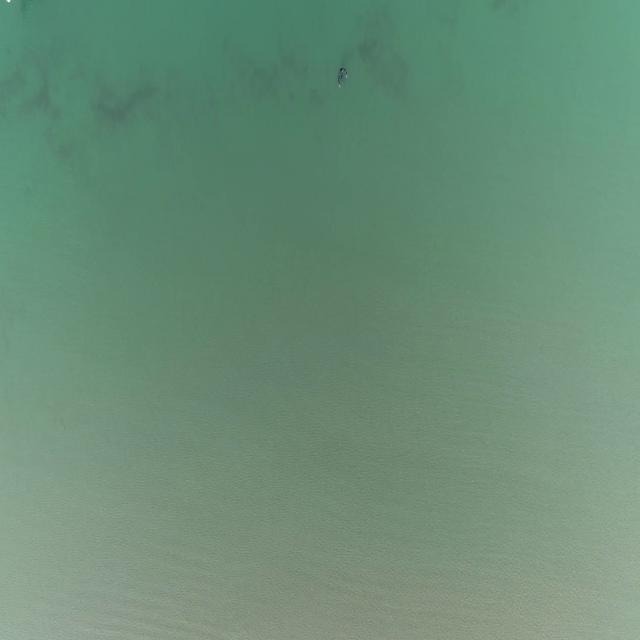person: (336, 66, 350, 87)
